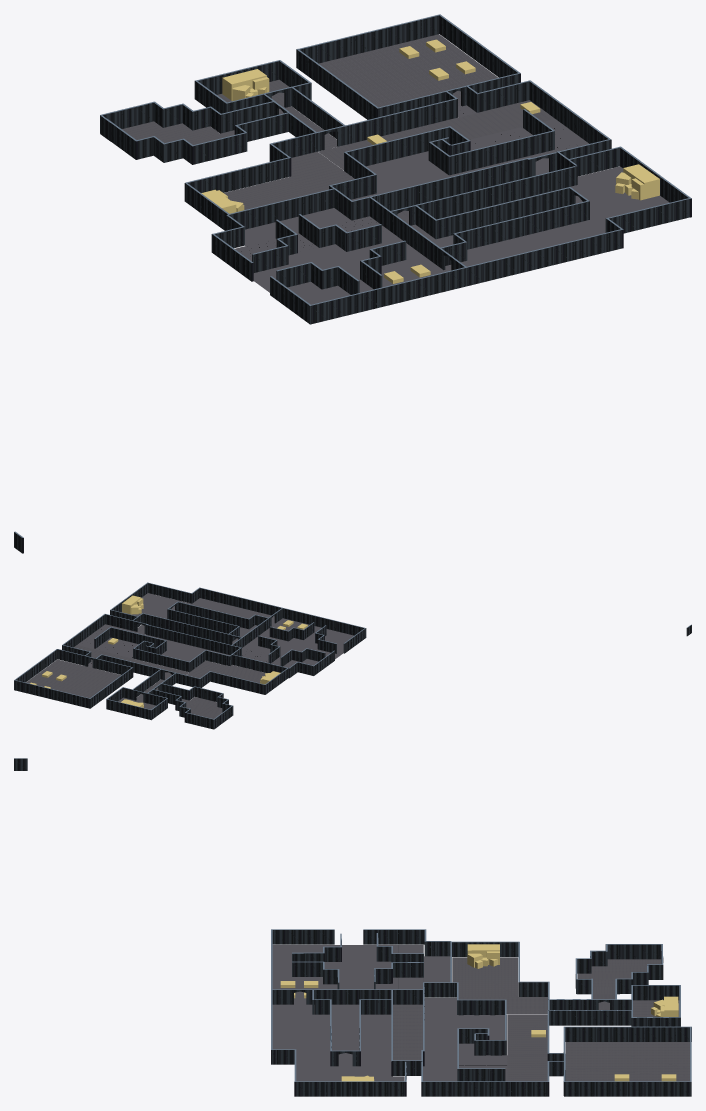
File: stage 2 (testing).fbx
3 views of the same model, one above another, from view 1: azimuth 30°, elevation 25°; view 2: azimuth 150°, elevation 25°; view 3: azimuth 270°, elevation 25° (orthographic). The views are drawn at different scales.
Visible parts, largest first — view 1: Plane, Wall.647, Wall.680, Wall.578, Wall.524, Wall.616, Wall.721, Wall.558, Wall.275, Wall.746, Wall.545, Wall.012 (+3 smaller); view 2: Plane, Wall.647, Wall.680, Wall.578, Wall.616, Wall.721, Wall.524, Wall.275, Wall.558, Wall.545, Wall.746, Wall.001 (+3 smaller); view 3: Plane, Wall.616, Wall.578, Wall.647, Wall.680, Wall.524, Wall.721, Wall.558, Wall.545, Wall.746, Wall.275, Wall.001 (+3 smaller).
Boxes of the visible parts, <box> form: Plane: <box>122,34,669,304</box>; Wall.647: <box>228,152,621,324</box>; Wall.680: <box>184,166,589,323</box>; Wall.578: <box>296,14,530,119</box>; Wall.524: <box>100,101,275,164</box>; Wall.616: <box>529,80,691,248</box>; Wall.721: <box>346,109,554,265</box>; Wall.558: <box>291,82,457,144</box>; Wall.275: <box>186,112,317,192</box>; Wall.746: <box>298,86,468,251</box>; Wall.545: <box>194,60,311,113</box>; Wall.012: <box>276,262,359,294</box>; Plane: <box>26,593,353,718</box>; Wall.647: <box>146,587,366,672</box>; Wall.680: <box>143,601,365,694</box>; Wall.578: <box>14,645,132,708</box>; Wall.616: <box>62,582,199,647</box>; Wall.721: <box>94,614,267,671</box>; Wall.524: <box>152,686,233,729</box>; Wall.275: <box>161,671,265,700</box>; Wall.558: <box>95,654,160,699</box>; Wall.545: <box>106,687,167,720</box>; Wall.746: <box>85,635,280,668</box>; Wall.001: <box>269,622,314,641</box>; Plane: <box>272,945,689,1081</box>; Wall.616: <box>271,1049,547,1096</box>; Wall.578: <box>547,1026,691,1096</box>; Wall.647: <box>271,929,506,1066</box>; Wall.680: <box>272,929,519,1076</box>; Wall.524: <box>575,944,663,1009</box>; Wall.721: <box>312,990,506,1081</box>; Wall.558: <box>547,1010,632,1060</box>; Wall.545: <box>617,985,680,1026</box>; Wall.746: <box>374,962,565,1060</box>; Wall.275: <box>518,942,592,1009</box>; Wall.001: <box>292,961,339,989</box>.
Bounding box in the file's own units: 57127 × 1251 × 50174.
Materials: 4 (3 with a texture image).
